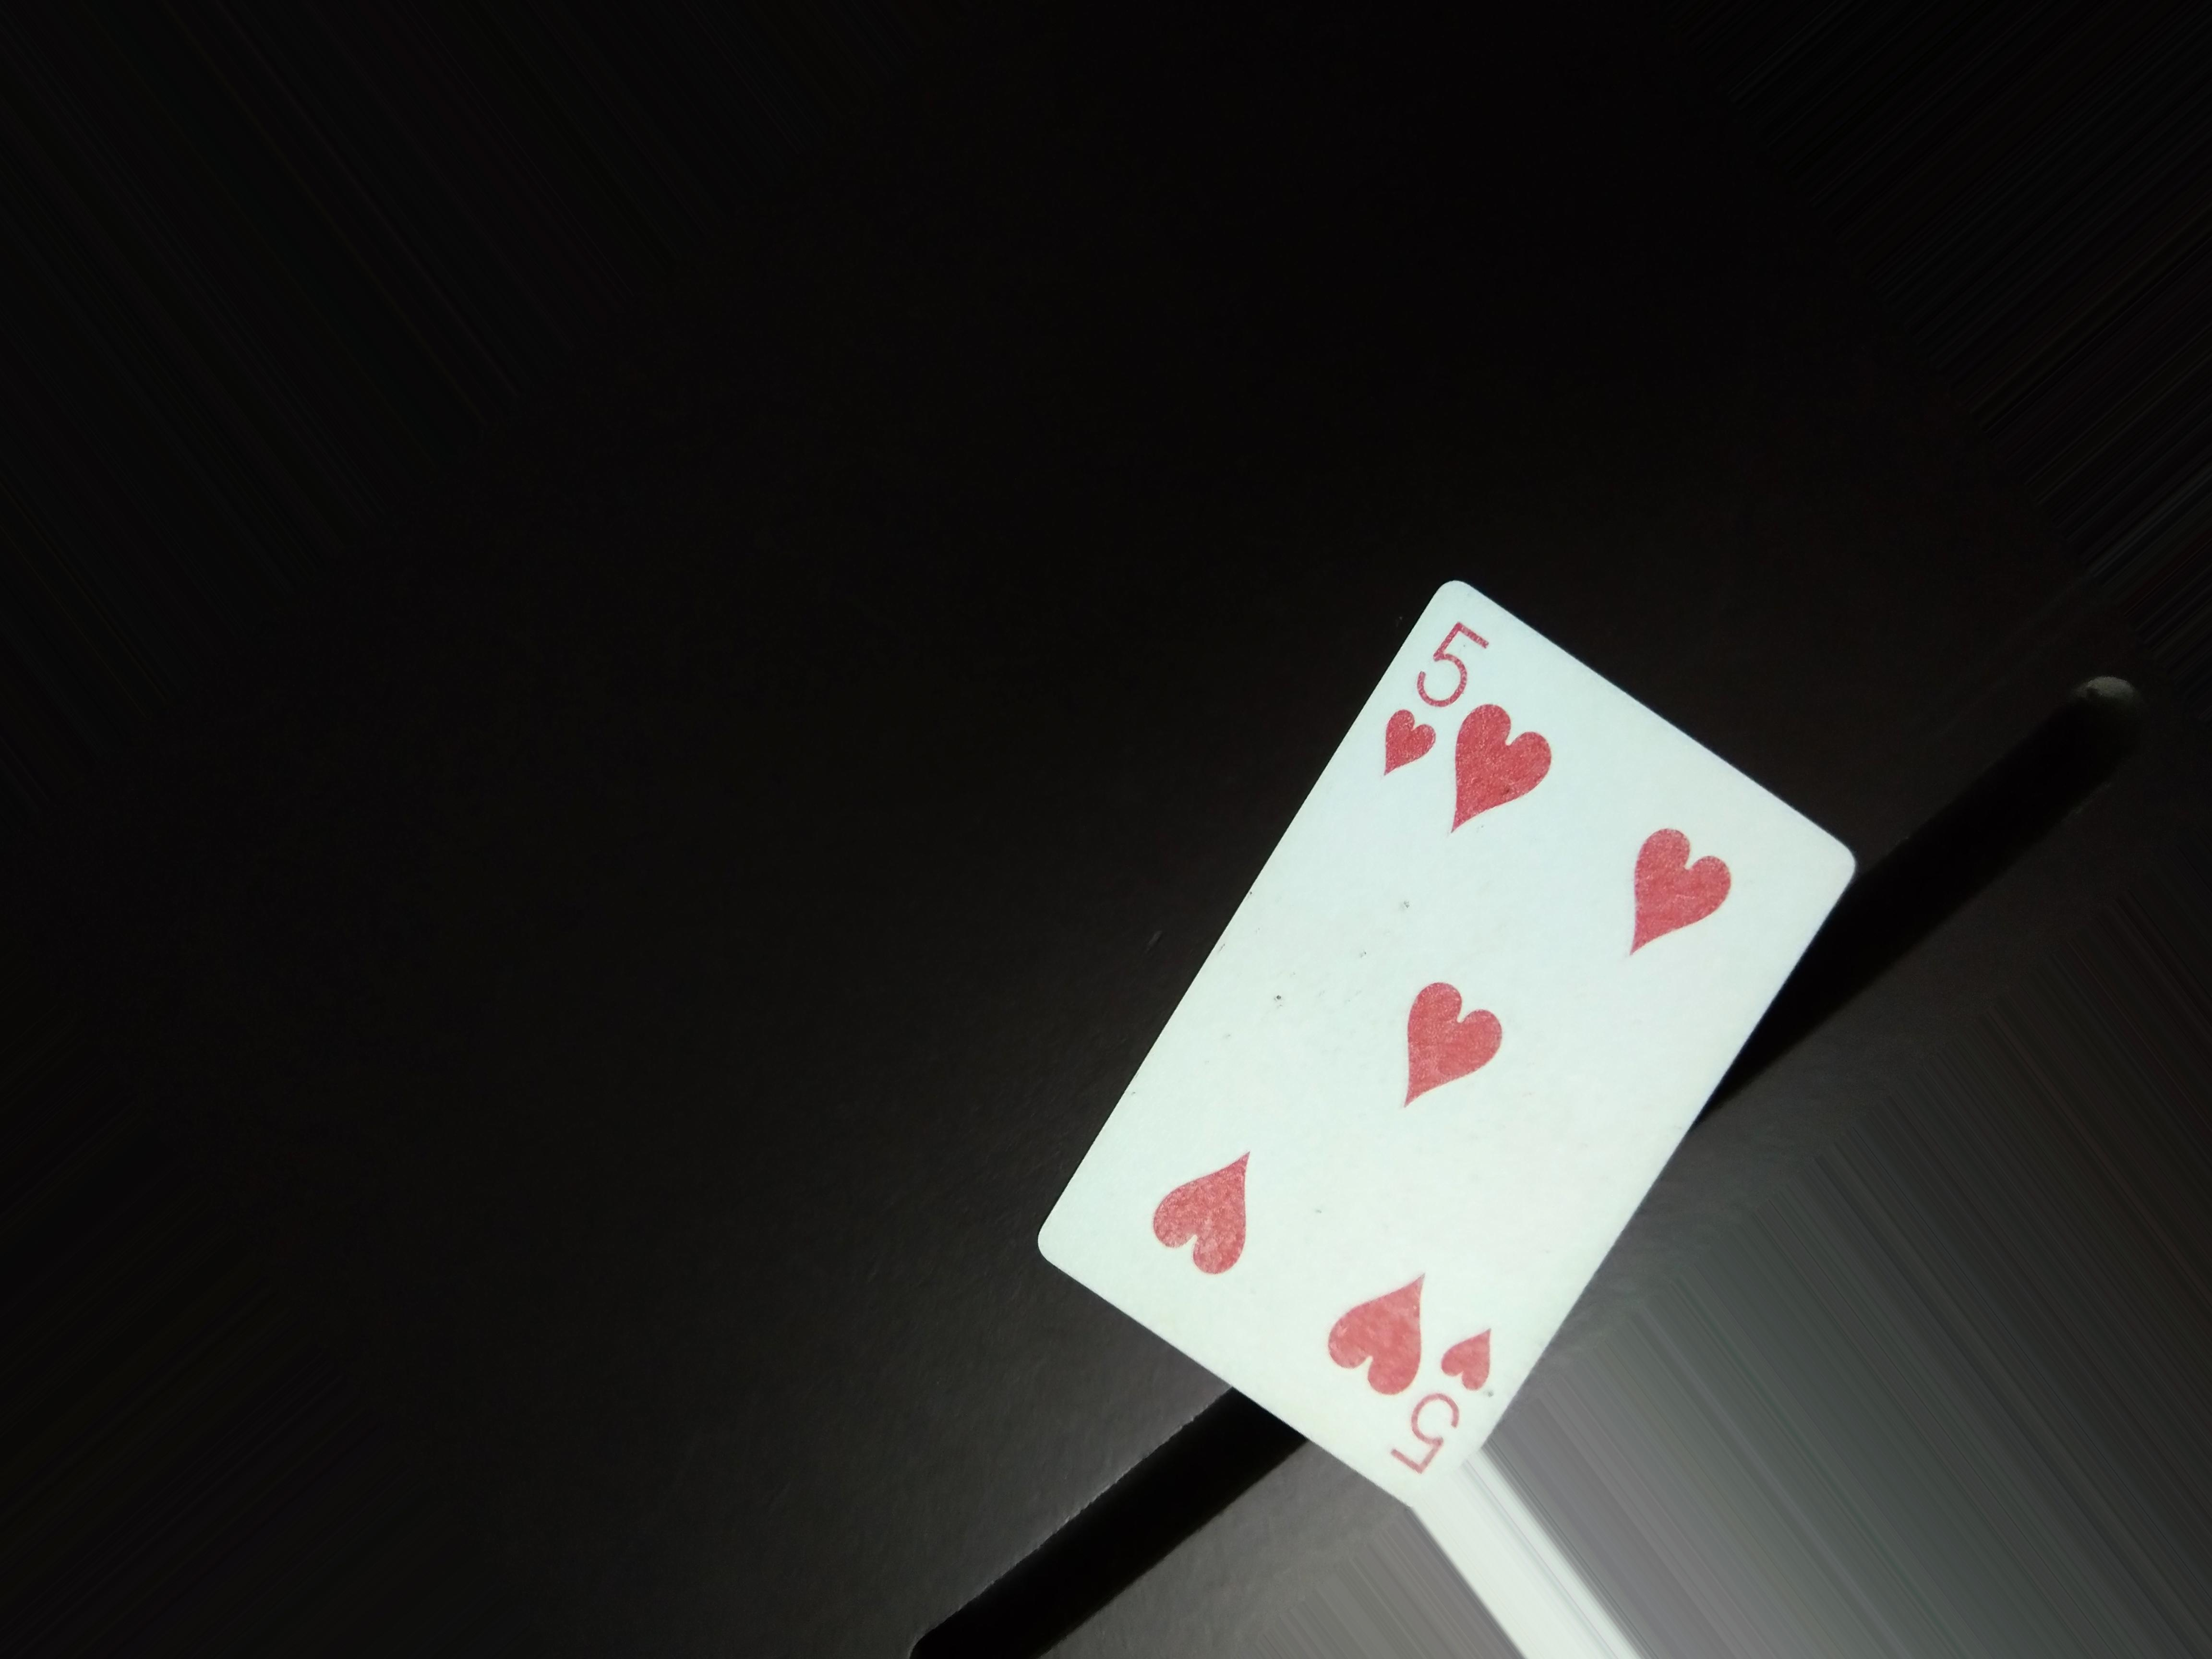5H: (1399, 1328, 1512, 1480)
